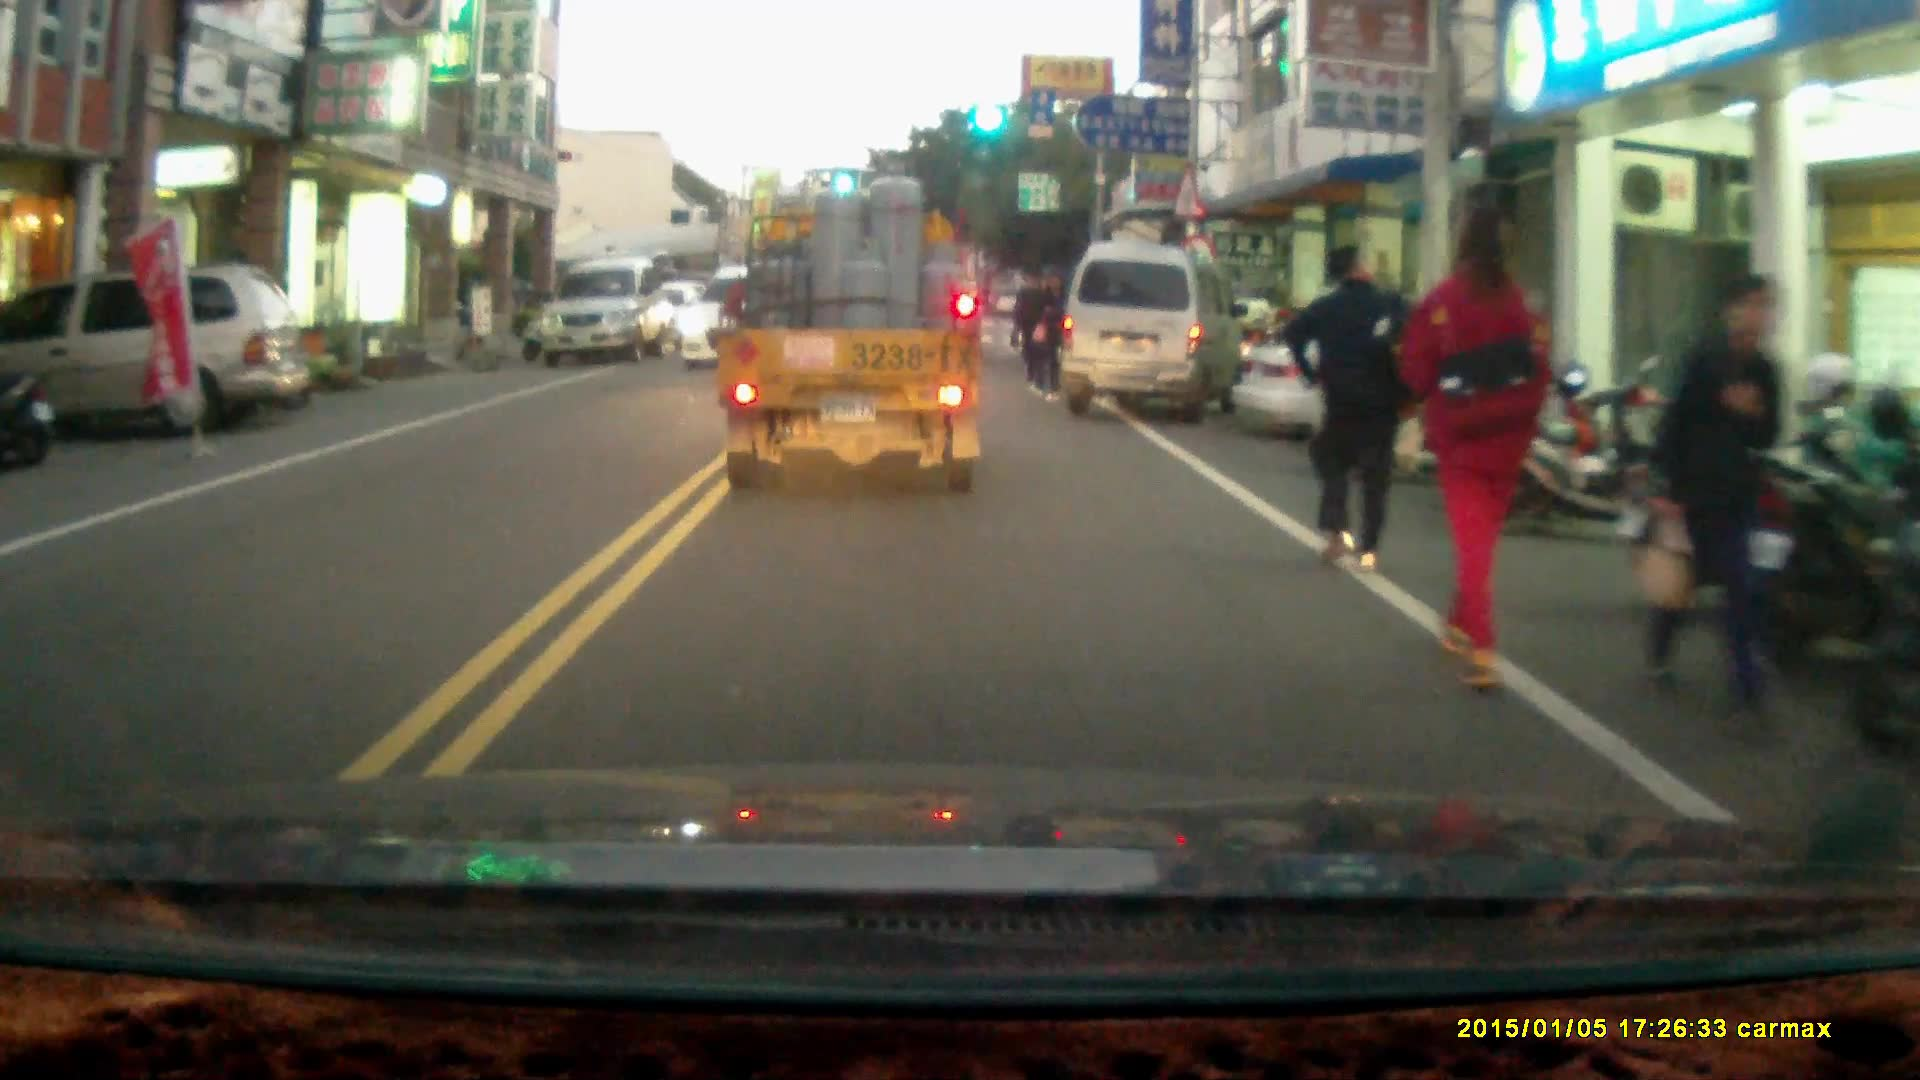pedestrian: (1638, 268, 1796, 741), (1402, 195, 1552, 689), (1284, 242, 1411, 570), (1031, 270, 1068, 402)
vehicle: (719, 170, 992, 506), (1239, 299, 1621, 456), (2, 265, 319, 446), (1064, 234, 1246, 415), (669, 259, 820, 369), (541, 257, 677, 365)
